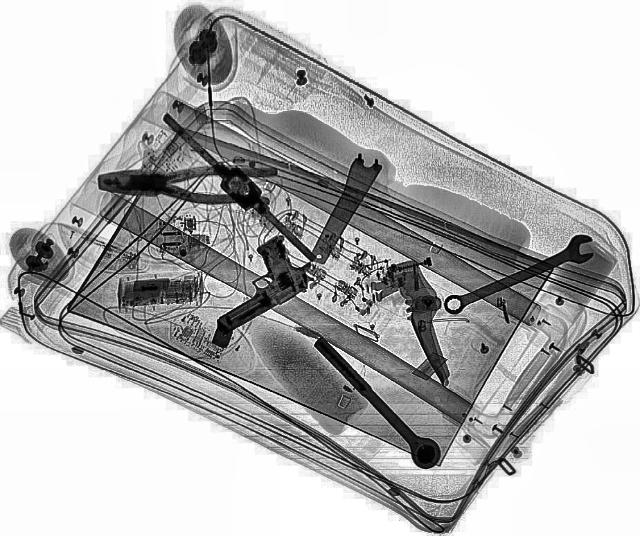Gun: (178, 231, 329, 336)
Pliers: (95, 162, 277, 204)
Wrench: (434, 230, 604, 320)
